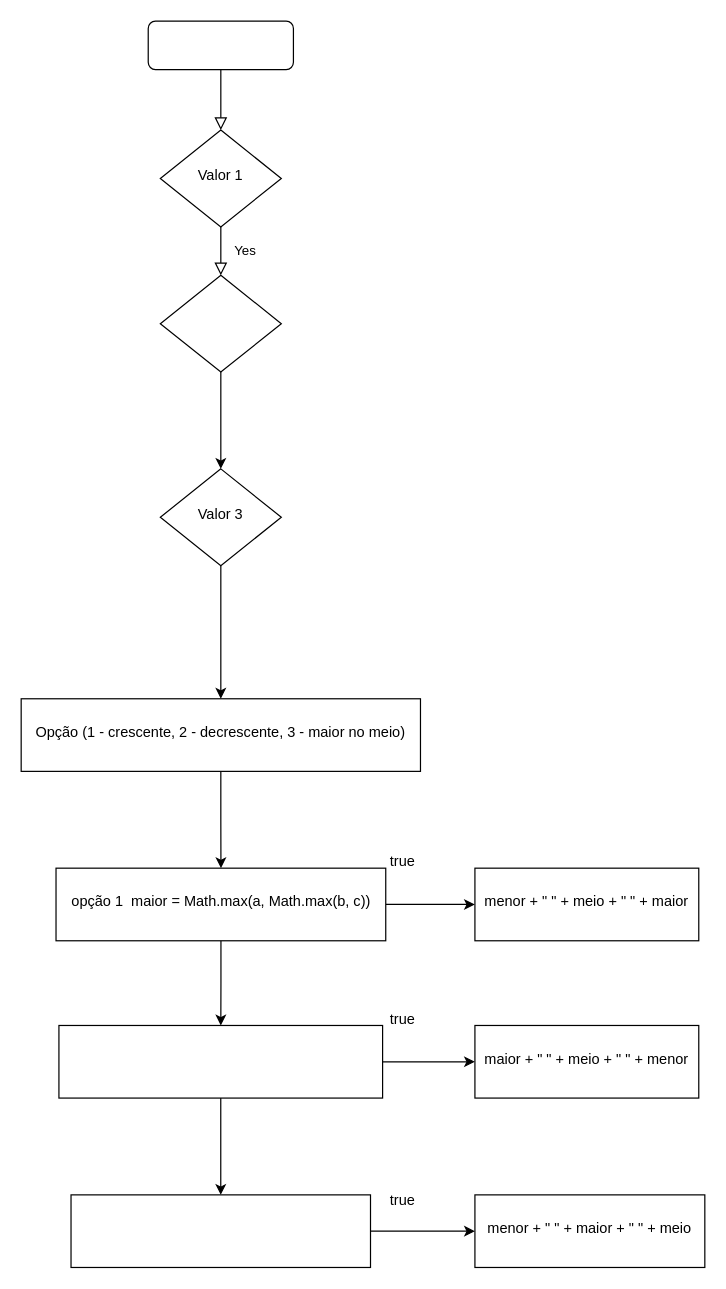
Some shapes in this 726 by 1289 pixel diagram are drawn without their labels. Each missing label, with the centre of its shape:
Lamp doesn't work: the point at 220,45
opção 2 menor = Math.min(a, Math.min(b, c)): the point at 220,1061
opção 3 meio = a + b + c - maior - menor: the point at 220,1230
Valor 2: the point at 220,323
